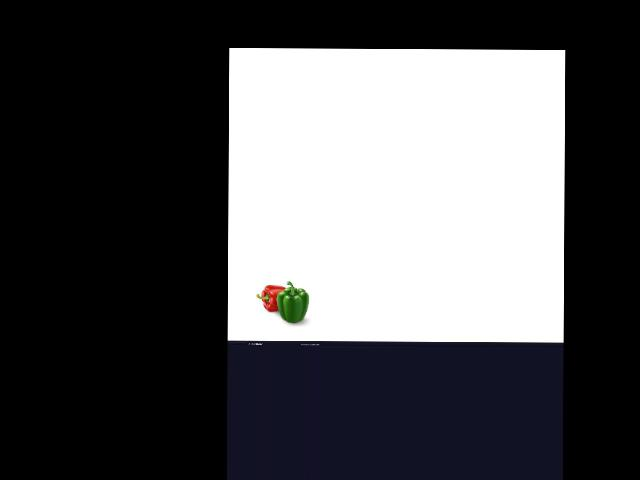bell_pepper: (256, 281, 286, 311)
